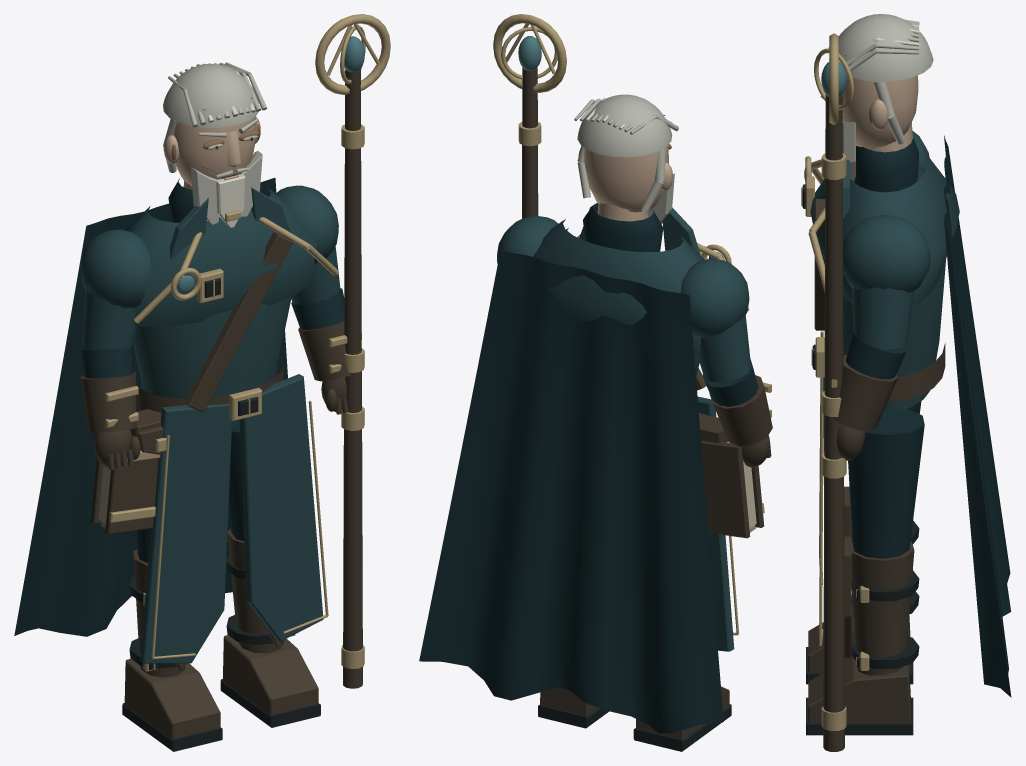
File: elder.glb
The picture shows the model from 3 angles, left to right: view 1: azimuth 30°, elevation 25°; view 2: azimuth 150°, elevation 25°; view 3: azimuth 270°, elevation 25°; orthographic projection. The views are drawn at different scales.
Parts seen in each view (by area): view 1: body, astrolabe-staff, archive-mantle, head, armL, legR, legL, armR, archive-volume, hand (×2), leather-pouch; view 2: body, armL, head, archive-mantle, astrolabe-staff, archive-volume, legR, legL, armR, leather-pouch, hand; view 3: body, legR, astrolabe-staff, armR, head, archive-mantle, legL, hand.
Boxes of the visible parts, x1,y1,x2,y2 form: body: [14, 178, 328, 663]; astrolabe-staff: [315, 14, 390, 688]; archive-mantle: [126, 188, 338, 326]; head: [163, 62, 267, 227]; armL: [80, 229, 151, 432]; legR: [220, 423, 320, 727]; legL: [122, 528, 222, 751]; armR: [276, 185, 361, 381]; archive-volume: [90, 436, 160, 534]; hand (×2): [94, 377, 348, 469]; leather-pouch: [130, 409, 166, 454]; body: [419, 202, 739, 733]; armL: [680, 259, 772, 446]; head: [574, 94, 678, 223]; archive-mantle: [533, 219, 749, 353]; astrolabe-staff: [493, 14, 566, 218]; archive-volume: [701, 441, 764, 538]; legR: [538, 687, 608, 728]; legL: [633, 686, 731, 751]; armR: [497, 216, 558, 263]; leather-pouch: [699, 413, 728, 443]; hand: [741, 435, 771, 467]; body: [801, 123, 1011, 697]; legR: [806, 408, 924, 735]; astrolabe-staff: [814, 33, 854, 751]; armR: [831, 215, 930, 431]; head: [820, 14, 933, 181]; archive-mantle: [808, 150, 959, 306]; legL: [806, 401, 921, 684]; hand: [836, 424, 865, 460].
Size of the model in its own units: 1.05 by 2.23 by 0.5871.
